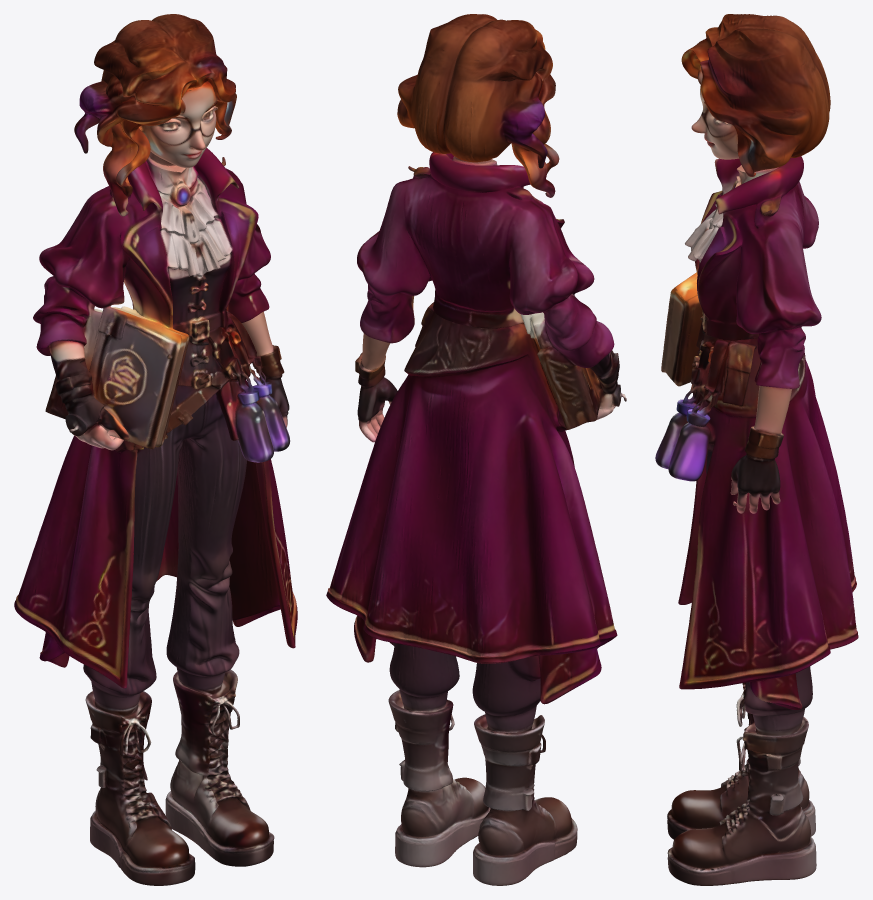
Rendered from Zoe.glb.
3 views of the same model, side by side, from view 1: azimuth 30°, elevation 25°; view 2: azimuth 150°, elevation 25°; view 3: azimuth 270°, elevation 25° (orthographic).
Parts seen in each view (by area): view 1: model; view 2: model; view 3: model.
Part boxes in pixels (<box>): model: <box>14,14,297,885</box>; model: <box>326,14,626,885</box>; model: <box>655,14,858,885</box>.
Size of the model in its own units: 0.6364 by 1.9 by 0.4241.
Materials: 1 (1 with a texture image).
